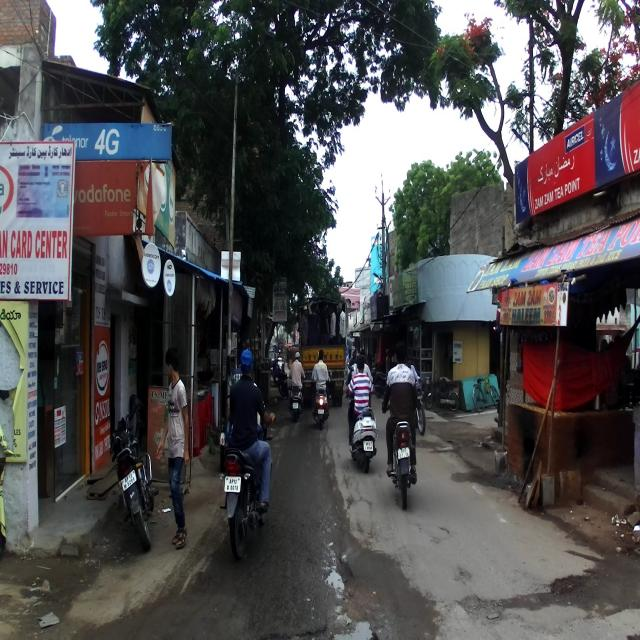motorcycle: (219, 400, 278, 560), (110, 400, 160, 552), (382, 400, 419, 510)
scooter: (345, 386, 378, 472), (312, 374, 330, 429)
truck: (298, 294, 346, 407)
